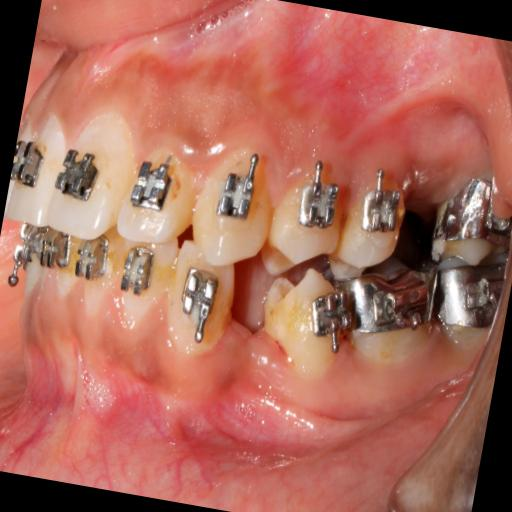correct_brace: (267, 162, 349, 274), (124, 154, 180, 220), (50, 143, 100, 210), (214, 168, 260, 222)
incorrect_brace: (118, 138, 200, 254), (291, 174, 342, 234)
